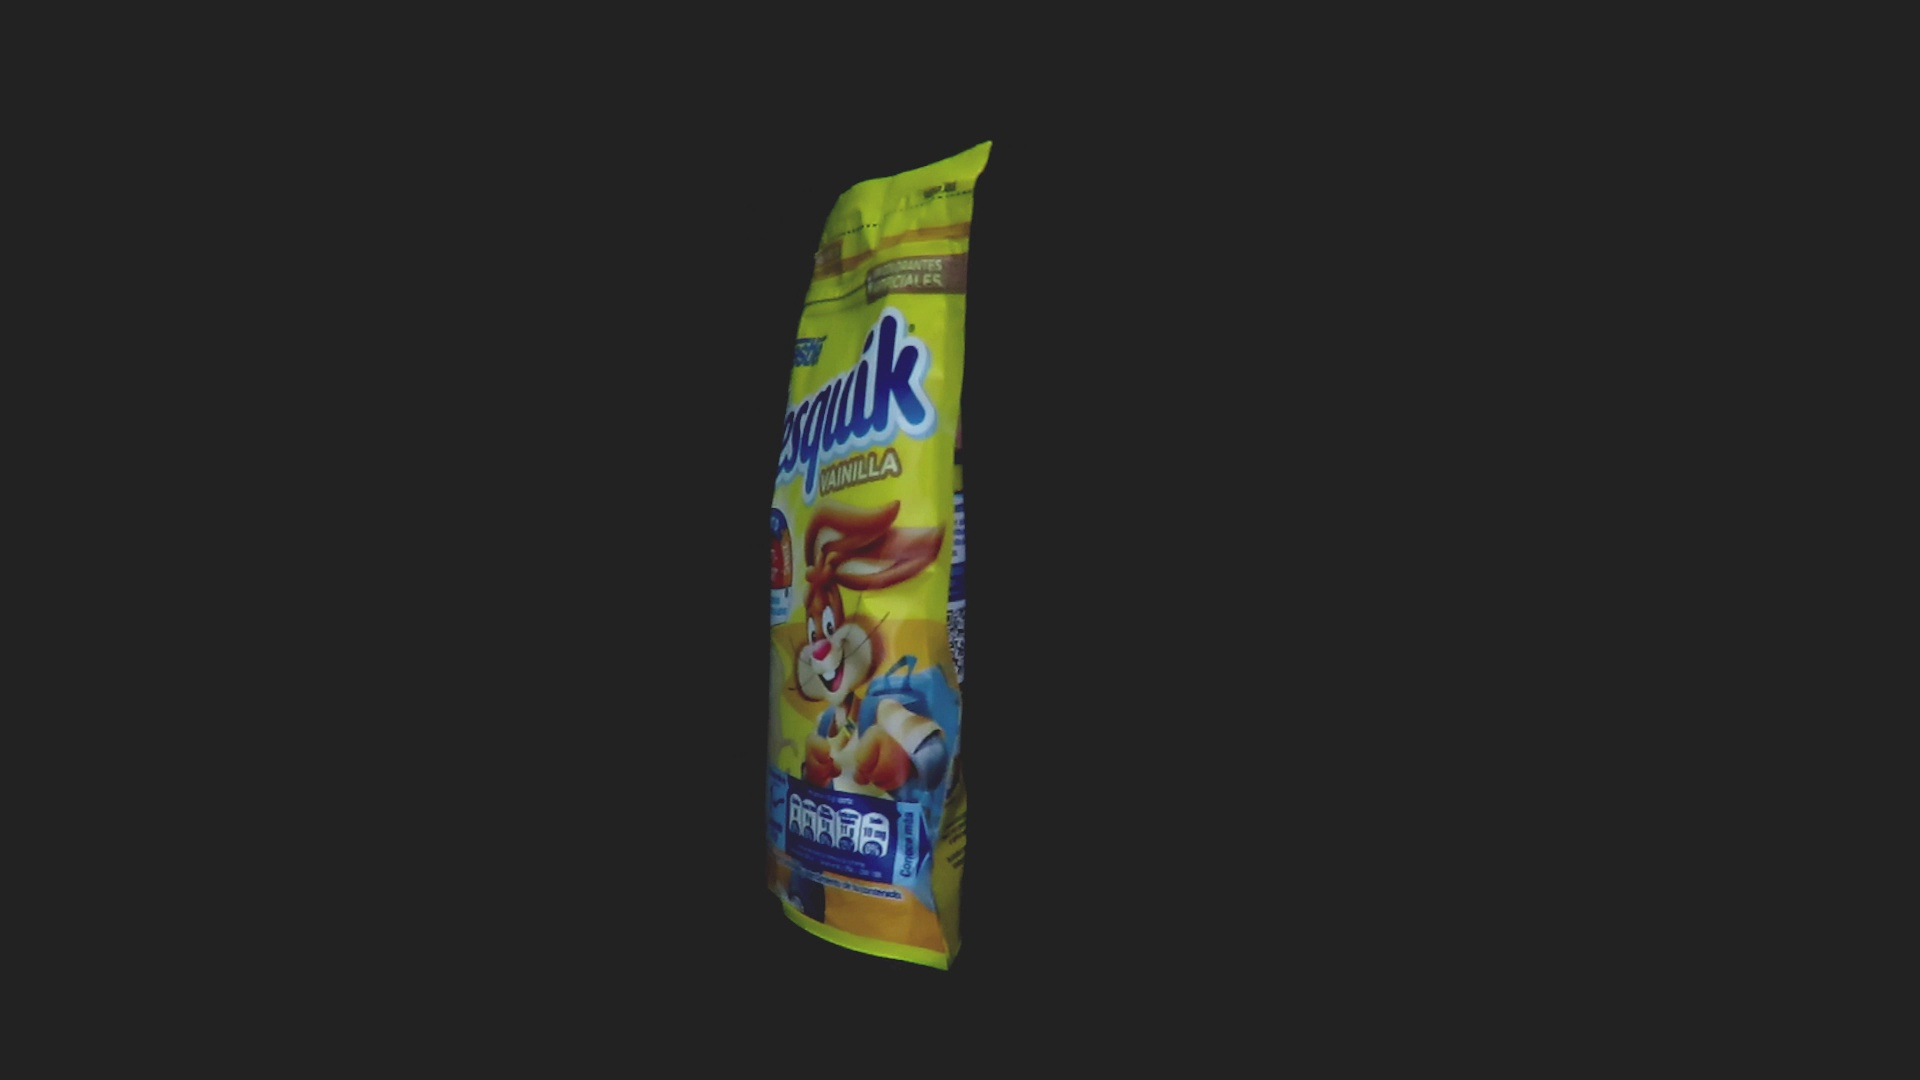COL0170306DYP20000: (760, 136, 998, 977)
